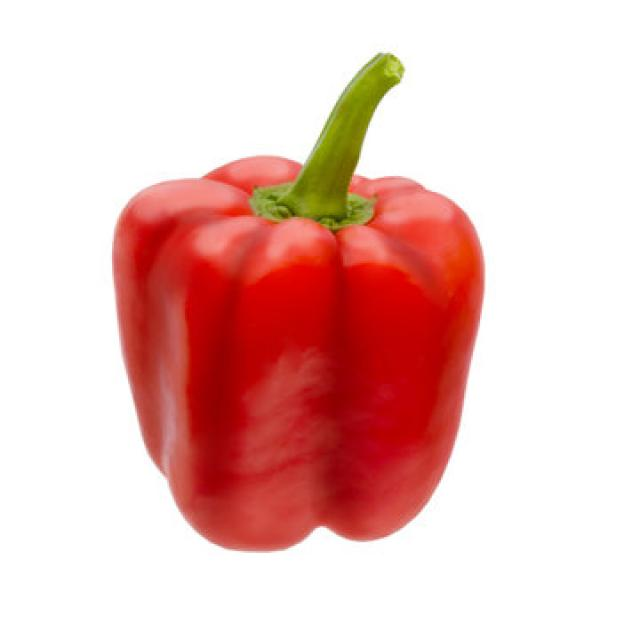Bell Pepper: (110, 50, 486, 553)
